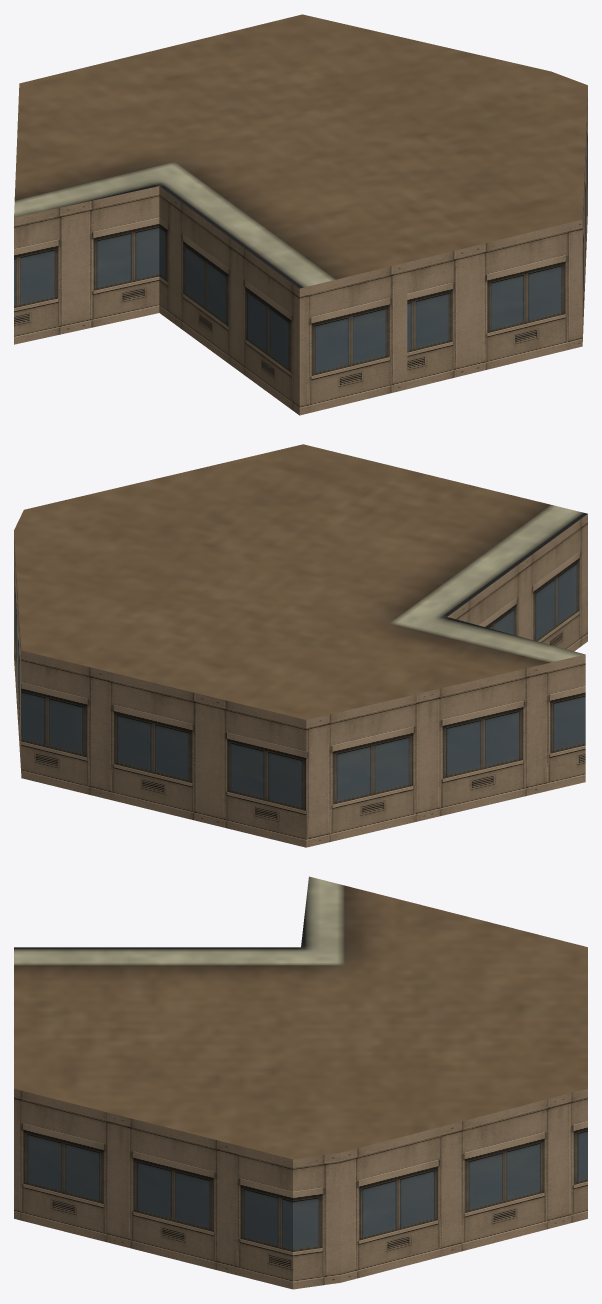
Rendered from light_roof66.glb.
3 renders of one model, top to bottom at view 1: azimuth 30°, elevation 25°; view 2: azimuth 150°, elevation 25°; view 3: azimuth 270°, elevation 25°, orthographic. The views are drawn at different scales.
Visible parts, largest first — view 1: buildings/saxarba/light/light_roof66; view 2: buildings/saxarba/light/light_roof66; view 3: buildings/saxarba/light/light_roof66.
Part boxes in pixels (box(x1,y1,x2,y2)): buildings/saxarba/light/light_roof66: box(14, 14, 587, 415); buildings/saxarba/light/light_roof66: box(14, 444, 587, 847); buildings/saxarba/light/light_roof66: box(14, 876, 587, 1289).
Bounding box in the file's own units: 84 × 18 × 72.
